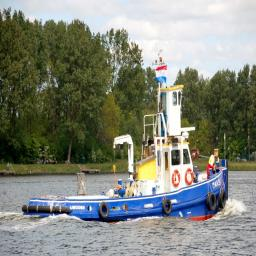tugboat: (21, 64, 231, 229)
